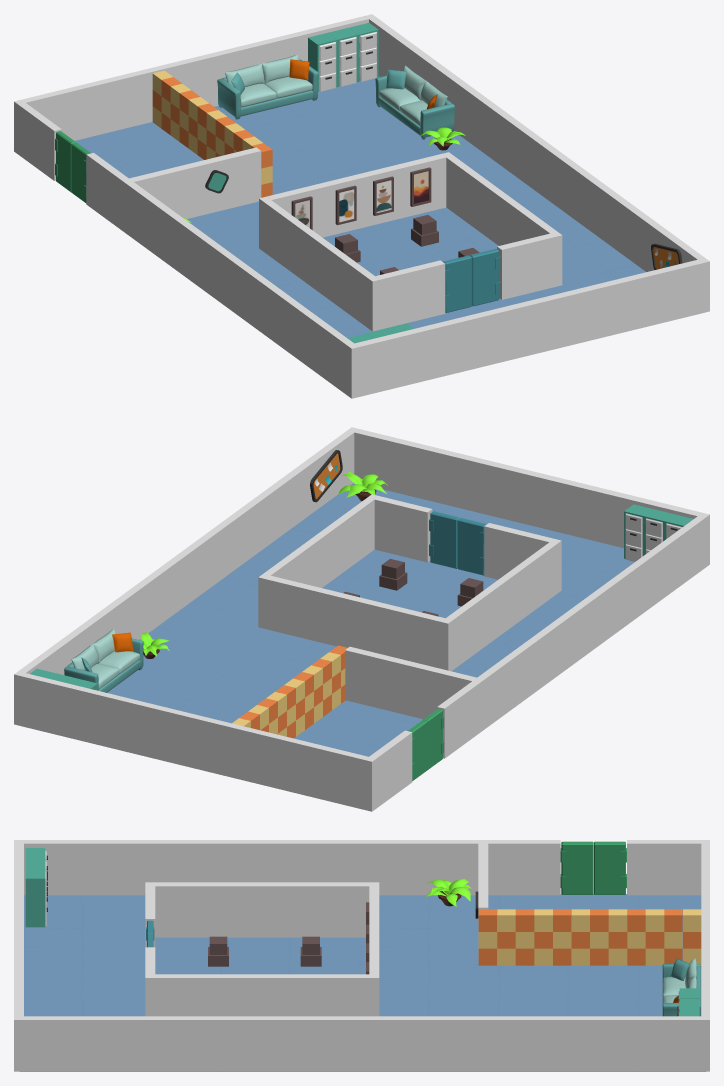
The model's file is maps_29.fbx.
3 views of the same model, one above another, from view 1: azimuth 30°, elevation 25°; view 2: azimuth 150°, elevation 25°; view 3: azimuth 270°, elevation 25° (orthographic). The views are drawn at different scales.
Parts seen in each view (by area): view 1: polySurface144, polySurface195, polySurface196, polySurface191, polySurface193, polySurface259, polySurface198, polySurface261, polySurface260, sofa_geo, polySurface199, sofa_geo1 (+12 smaller); view 2: polySurface144, polySurface193, polySurface196, polySurface195, polySurface191, polySurface198, polySurface259, polySurface261, polySurface260, polySurface194, sofa_geo1, polySurface2 (×2) (+8 smaller); view 3: polySurface144, polySurface191, polySurface196, polySurface259, polySurface260, polySurface197, polySurface2, polySurface6, polySurface195, polySurface193, sofa_geo, wardrobe_geo5 (+17 smaller).
Boxes of the visible parts, box(x1,y1,x2,y2) form: polySurface144: box(75, 76, 645, 337); polySurface195: box(354, 259, 703, 396); polySurface196: box(86, 153, 359, 398); polySurface191: box(365, 14, 709, 312); polySurface193: box(14, 16, 368, 154); polySurface259: box(259, 196, 379, 331); polySurface198: box(267, 154, 446, 237); polySurface261: box(129, 147, 261, 218); polySurface260: box(442, 152, 562, 286); sofa_geo: box(217, 54, 318, 119); polySurface199: box(375, 260, 445, 329); sofa_geo1: box(375, 65, 454, 139); polySurface144: box(107, 483, 634, 756); polySurface193: box(21, 673, 376, 811); polySurface196: box(437, 512, 709, 758); polySurface195: box(354, 429, 701, 548); polySurface191: box(14, 427, 358, 725); polySurface198: box(265, 575, 444, 668); polySurface259: box(440, 539, 561, 671); polySurface261: box(345, 646, 477, 719); polySurface260: box(258, 494, 378, 628); polySurface194: box(374, 496, 432, 562); sofa_geo1: box(64, 628, 143, 692); polySurface2 (×2): box(423, 518, 486, 769); polySurface144: box(20, 894, 705, 1071); polySurface191: box(14, 1016, 709, 1071); polySurface196: box(14, 840, 560, 895); polySurface259: box(145, 882, 379, 937); polySurface260: box(145, 974, 379, 1016); polySurface197: box(627, 840, 701, 895); polySurface2: box(560, 841, 593, 894); polySurface6: box(594, 841, 626, 894); polySurface195: box(14, 843, 23, 1016); polySurface193: box(701, 840, 709, 1016); sofa_geo: box(662, 958, 700, 1016); wardrobe_geo5: box(25, 868, 47, 927).
Size of the model in its own units: 66.51 by 9.56 by 109.
Materials: 7 (7 with a texture image).
